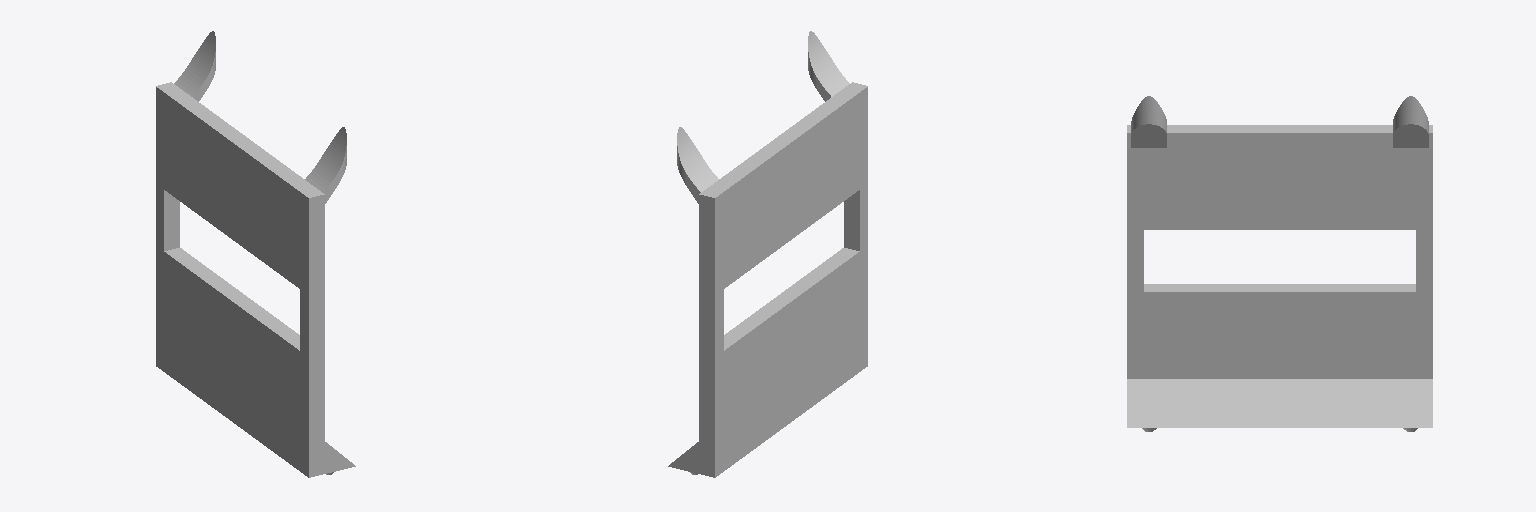
The model's file is V5_Inner Cover Side Open.obj.
3 renders of one model, left to right at view 1: azimuth 30°, elevation 25°; view 2: azimuth 150°, elevation 25°; view 3: azimuth 270°, elevation 25°, orthographic.
Visible parts, largest first — view 1: Solid1:57; view 2: Solid1:57; view 3: Solid1:57.
Boxes of the visible parts, x1,y1,x2,y2 form: Solid1:57: [156, 31, 355, 477]; Solid1:57: [668, 31, 867, 477]; Solid1:57: [1127, 96, 1432, 431].
Size of the model in its own units: 6.05 by 41.6 by 33.75.